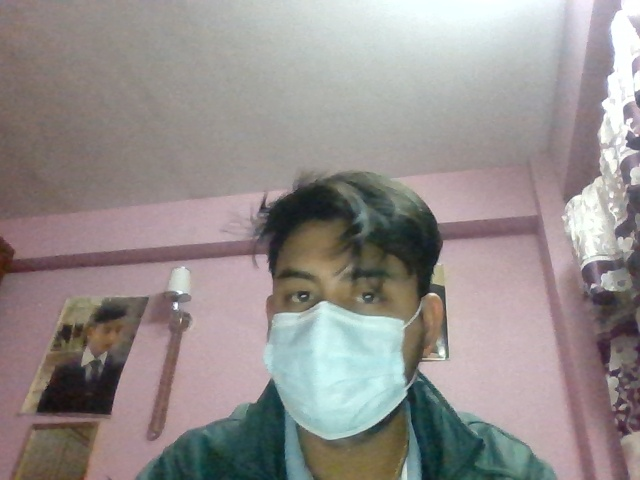mask: (261, 309, 435, 444)
